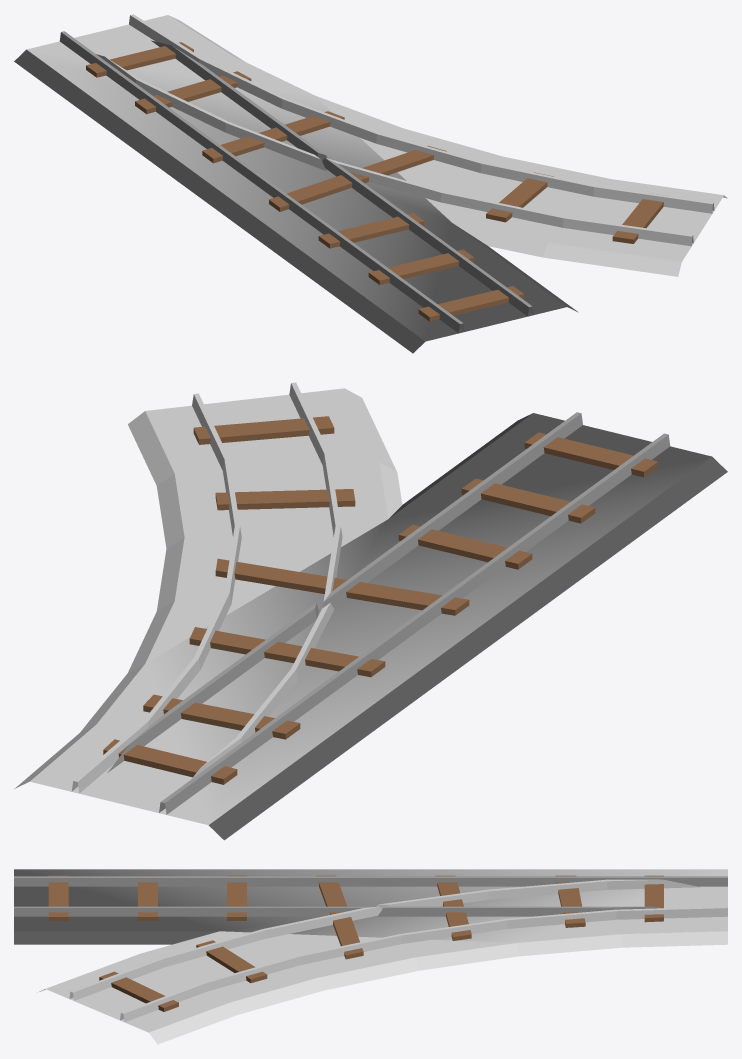
File: 1_Y_curve_left_medium.fbx
The picture shows the model from 3 angles, top to bottom: view 1: azimuth 30°, elevation 25°; view 2: azimuth 150°, elevation 25°; view 3: azimuth 270°, elevation 25°; orthographic projection. The views are drawn at different scales.
Parts seen in each view (by area): view 1: 1_Y_curve_left_medium; view 2: 1_Y_curve_left_medium; view 3: 1_Y_curve_left_medium.
Part boxes in pixels (box(x1,y1,x2,y2)): 1_Y_curve_left_medium: box(14, 14, 727, 353); 1_Y_curve_left_medium: box(14, 382, 727, 840); 1_Y_curve_left_medium: box(14, 869, 727, 1044).
Bounding box in the file's own units: 4.57 × 0.2 × 8.
